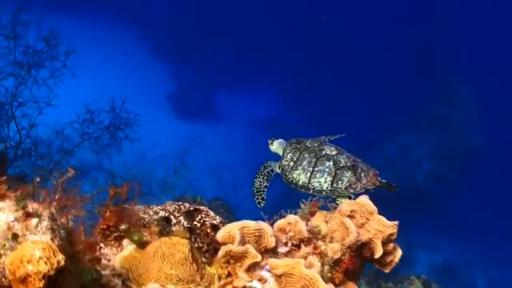Fish: (253, 135, 397, 207)
